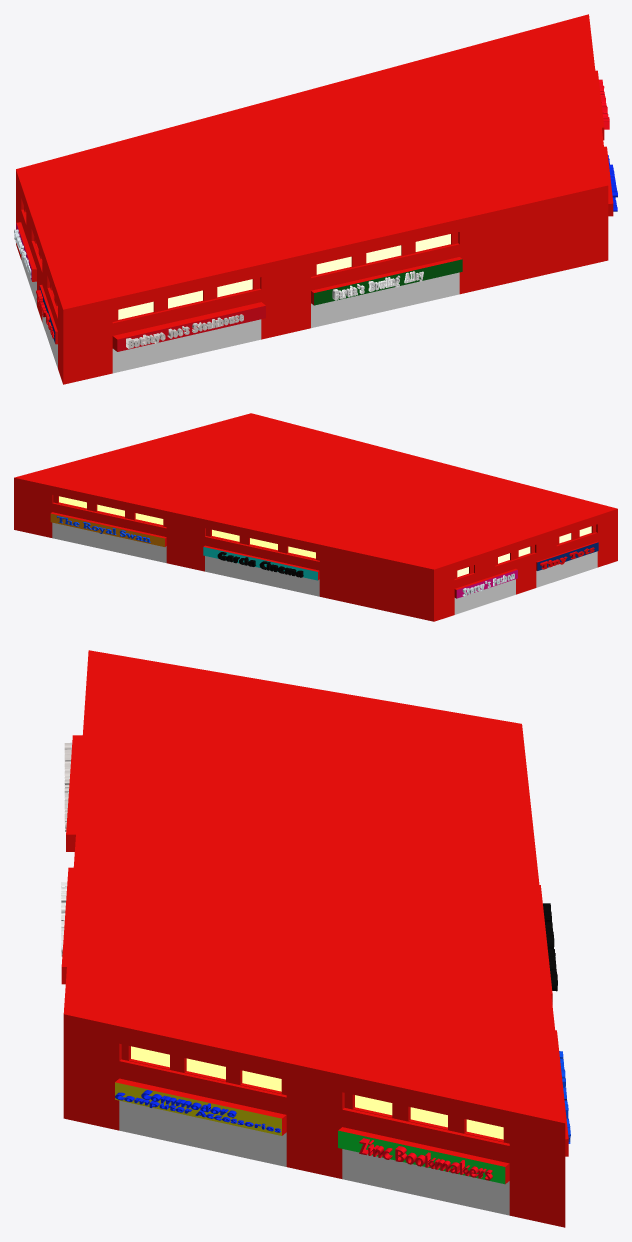
Rendered from parellolgram_shopping_complex.fbx.
3 renders of one model, top to bottom at view 1: azimuth 30°, elevation 25°; view 2: azimuth 150°, elevation 25°; view 3: azimuth 270°, elevation 25°, orthographic. The views are drawn at different scales.
Parts seen in each view (by area): view 1: parellolgram_shopping_complex; view 2: parellolgram_shopping_complex; view 3: parellolgram_shopping_complex.
Part boxes in pixels (x1=…): parellolgram_shopping_complex: x1=14, y1=14, x2=617, y2=384; parellolgram_shopping_complex: x1=14, y1=413, x2=617, y2=621; parellolgram_shopping_complex: x1=61, y1=650, x2=570, y2=1227.
Size of the model in its own units: 729 by 75 by 332.
